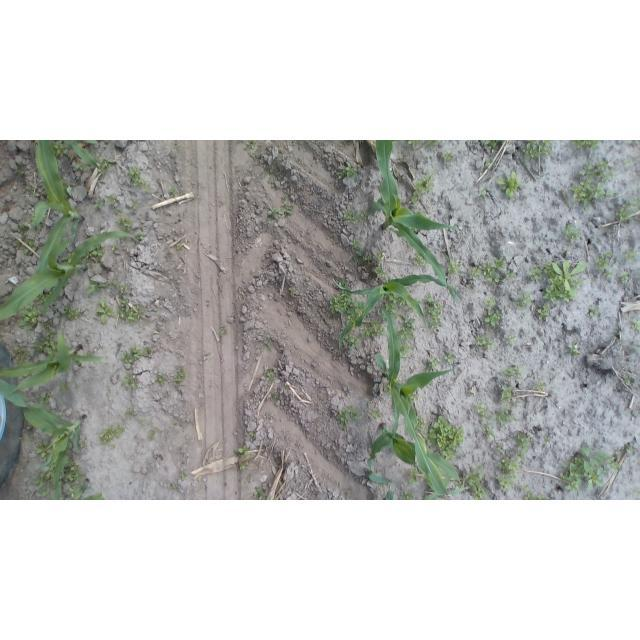Maize: (379, 306, 454, 496), (1, 230, 140, 319), (376, 140, 457, 292), (0, 379, 84, 500), (332, 273, 458, 353), (34, 140, 85, 280), (369, 423, 461, 500), (1, 331, 103, 394), (51, 465, 104, 499), (61, 140, 105, 173), (386, 489, 395, 500)
Weeds: (561, 444, 619, 494), (569, 160, 615, 206), (429, 415, 463, 462), (551, 261, 587, 292), (118, 285, 146, 322), (422, 292, 443, 331), (409, 174, 436, 202), (34, 332, 59, 359), (330, 279, 348, 316), (467, 468, 486, 501), (496, 171, 520, 197), (521, 141, 551, 160), (99, 424, 125, 444), (64, 462, 80, 492), (97, 299, 116, 324), (20, 308, 41, 329), (88, 279, 116, 294), (482, 261, 501, 283), (63, 302, 84, 321), (499, 456, 521, 474), (495, 407, 513, 429), (514, 435, 533, 454), (496, 476, 516, 493), (562, 223, 578, 243), (339, 162, 356, 180), (363, 320, 381, 337), (93, 152, 107, 173), (401, 319, 414, 340), (116, 214, 133, 230), (35, 441, 51, 458), (505, 365, 523, 380), (10, 347, 29, 361), (349, 299, 363, 318), (515, 293, 531, 309), (346, 406, 360, 424), (573, 140, 600, 149), (53, 142, 69, 157), (543, 288, 559, 303), (500, 386, 514, 403), (283, 199, 294, 220), (528, 267, 542, 283), (407, 468, 421, 483), (132, 166, 142, 187), (356, 252, 372, 265), (107, 192, 119, 209), (175, 365, 185, 385), (484, 312, 498, 326), (616, 207, 629, 222), (478, 405, 490, 421), (123, 374, 137, 387), (469, 265, 482, 279), (385, 297, 397, 312), (265, 366, 276, 382), (37, 473, 50, 486), (94, 198, 106, 212), (411, 255, 425, 267), (503, 335, 518, 346), (539, 307, 550, 322), (255, 485, 266, 500), (483, 422, 493, 438), (22, 241, 34, 254), (268, 207, 280, 220), (343, 210, 357, 221), (524, 493, 545, 500), (568, 342, 580, 354), (131, 346, 142, 359), (626, 440, 634, 457), (534, 381, 546, 392), (589, 306, 599, 319), (448, 261, 458, 274), (426, 359, 436, 372), (484, 140, 500, 148), (478, 337, 492, 346), (485, 297, 496, 308), (402, 489, 414, 499), (443, 151, 453, 163), (156, 374, 166, 386), (375, 251, 383, 266), (595, 257, 605, 269), (170, 186, 180, 198), (348, 336, 358, 348), (361, 211, 372, 221), (371, 409, 383, 418), (632, 318, 640, 331), (237, 446, 250, 454), (495, 259, 504, 270), (122, 352, 130, 364), (274, 390, 281, 403), (336, 412, 346, 421), (288, 287, 296, 298), (446, 353, 454, 364), (627, 250, 634, 262), (126, 409, 135, 418), (171, 483, 180, 492), (620, 272, 629, 281), (144, 346, 152, 356), (148, 429, 156, 439), (376, 268, 386, 276), (399, 298, 406, 309), (408, 140, 420, 146), (180, 471, 188, 480), (506, 270, 515, 278), (607, 269, 616, 277), (341, 419, 349, 428), (265, 339, 272, 349), (238, 462, 246, 470), (18, 224, 25, 233), (497, 444, 504, 453), (615, 257, 622, 266), (353, 240, 360, 248), (520, 486, 528, 493), (268, 414, 276, 421), (175, 243, 182, 251), (606, 251, 613, 258), (250, 431, 256, 439)
